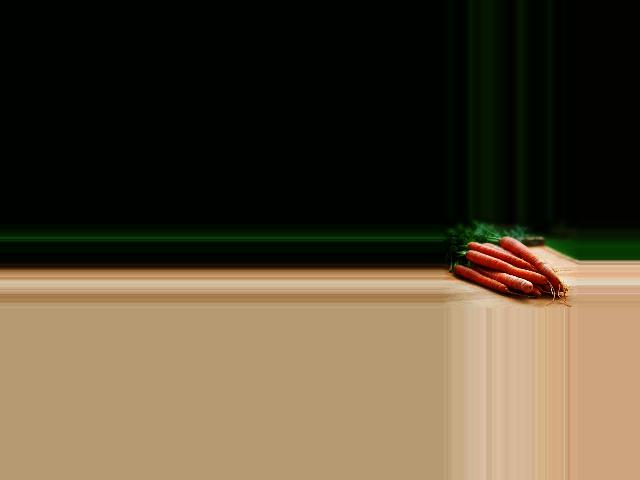carrot: (450, 266, 514, 303)
